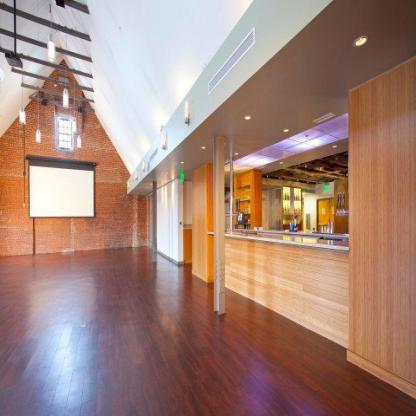other: (56, 333, 75, 378), (283, 188, 302, 220), (282, 230, 322, 244), (249, 153, 270, 173), (318, 199, 334, 221)
